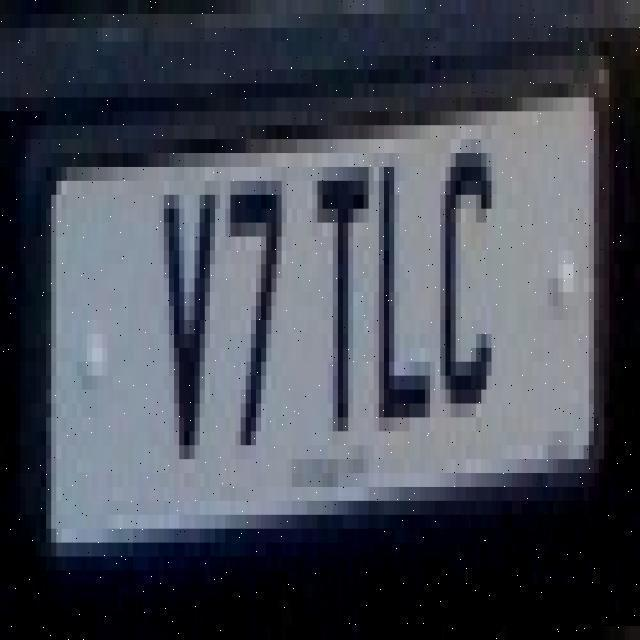LicensePlate: (23, 51, 622, 604)
